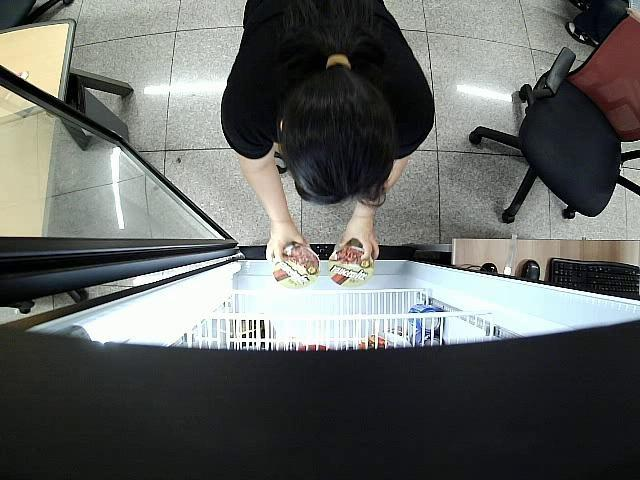03_chapagetti_L: (328, 241, 372, 288), (274, 244, 319, 288)
